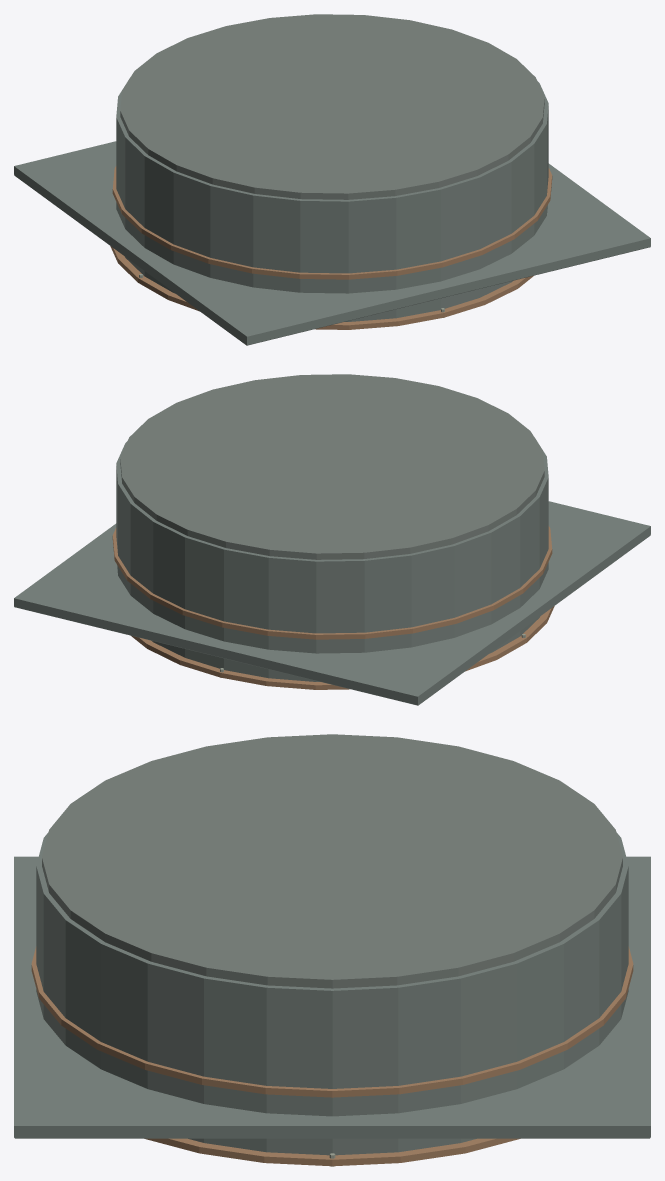
The model's file is FanHousing.fbx.
3 renders of one model, top to bottom at view 1: azimuth 30°, elevation 25°; view 2: azimuth 150°, elevation 25°; view 3: azimuth 270°, elevation 25°, orthographic. The views are drawn at different scales.
Parts seen in each view (by area): view 1: DuctEnd__ConcreteDark, Duct__Steel, AperturePlate__Steel, Rim__Rust, Mounts__Steel; view 2: DuctEnd__ConcreteDark, Duct__Steel, AperturePlate__Steel, Rim__Rust, Mounts__Steel; view 3: DuctEnd__ConcreteDark, Duct__Steel, AperturePlate__Steel, Rim__Rust, Mounts__Steel.
Part boxes in pixels (x1=…): DuctEnd__ConcreteDark: x1=120, y1=14, x2=544, y2=199; Duct__Steel: x1=116, y1=78, x2=548, y2=321; AperturePlate__Steel: x1=14, y1=141, x2=650, y2=344; Rim__Rust: x1=110, y1=166, x2=552, y2=329; Mounts__Steel: x1=14, y1=171, x2=650, y2=345; DuctEnd__ConcreteDark: x1=120, y1=374, x2=544, y2=559; Duct__Steel: x1=116, y1=438, x2=548, y2=681; AperturePlate__Steel: x1=14, y1=501, x2=650, y2=704; Rim__Rust: x1=112, y1=526, x2=554, y2=689; Mounts__Steel: x1=14, y1=530, x2=650, y2=705; DuctEnd__ConcreteDark: x1=42, y1=734, x2=622, y2=988; Duct__Steel: x1=36, y1=832, x2=628, y2=1155; AperturePlate__Steel: x1=14, y1=856, x2=650, y2=1137; Rim__Rust: x1=31, y1=946, x2=633, y2=1166; Mounts__Steel: x1=14, y1=1130, x2=650, y2=1138.
Bounding box in the file's own units: 8 × 2.62 × 8.
